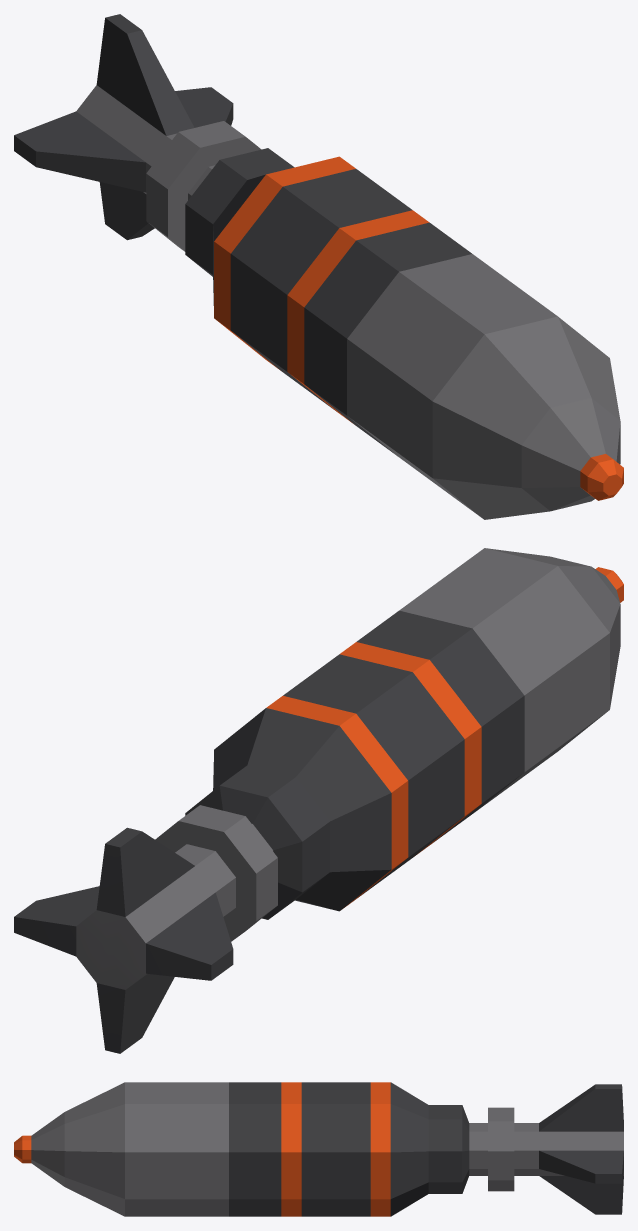
Rendered from rocket.obj.
3 views of the same model, one above another, from view 1: azimuth 30°, elevation 25°; view 2: azimuth 150°, elevation 25°; view 3: azimuth 270°, elevation 25° (orthographic). The views are drawn at different scales.
Visible parts, largest first — view 1: rocket.obj; view 2: rocket.obj; view 3: rocket.obj.
Part boxes in pixels (x1=…): rocket.obj: x1=14, y1=14, x2=623, y2=519; rocket.obj: x1=14, y1=548, x2=623, y2=1053; rocket.obj: x1=14, y1=1082, x2=623, y2=1216.
Bounding box in the file's own units: 0.1001 × 0.1001 × 0.4409.
